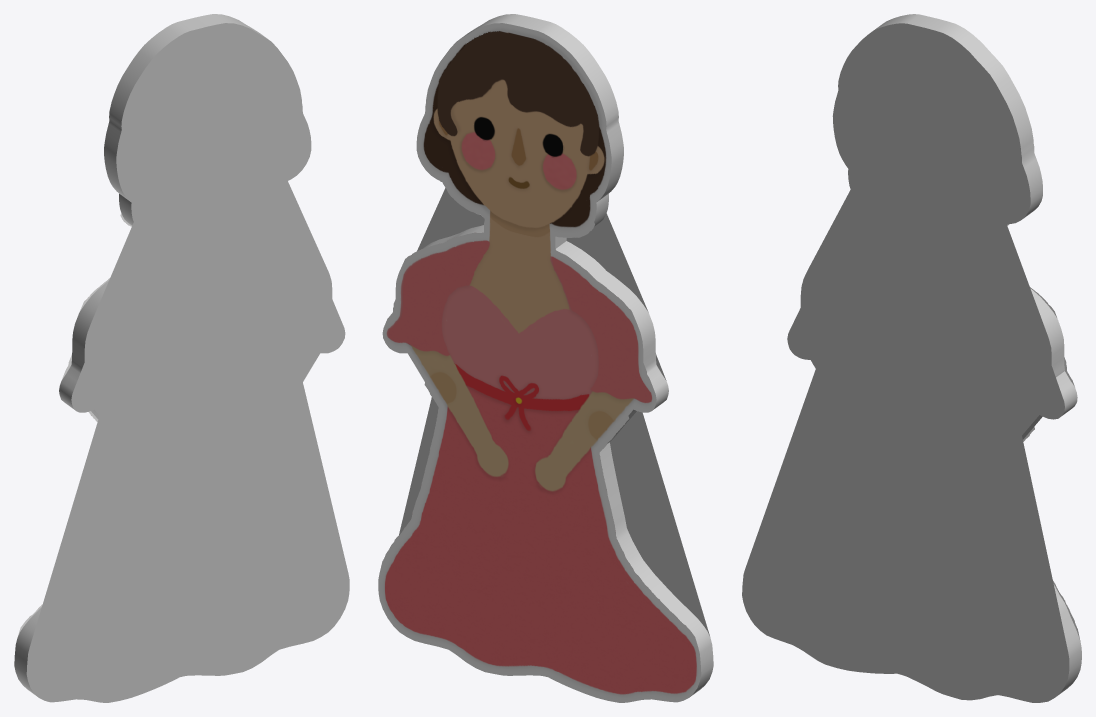
The model's file is princessModel.fbx.
The picture shows the model from 3 angles, left to right: view 1: azimuth 30°, elevation 25°; view 2: azimuth 150°, elevation 25°; view 3: azimuth 330°, elevation 25°; orthographic projection.
Visible parts, largest first — view 1: princessModel; view 2: princessModel; view 3: princessModel.
Part boxes in pixels (x1,y1,x2,y2): princessModel: [14, 14, 349, 702]; princessModel: [378, 14, 713, 702]; princessModel: [742, 14, 1081, 702].
Size of the model in its own units: 218 by 422 by 14.52.
